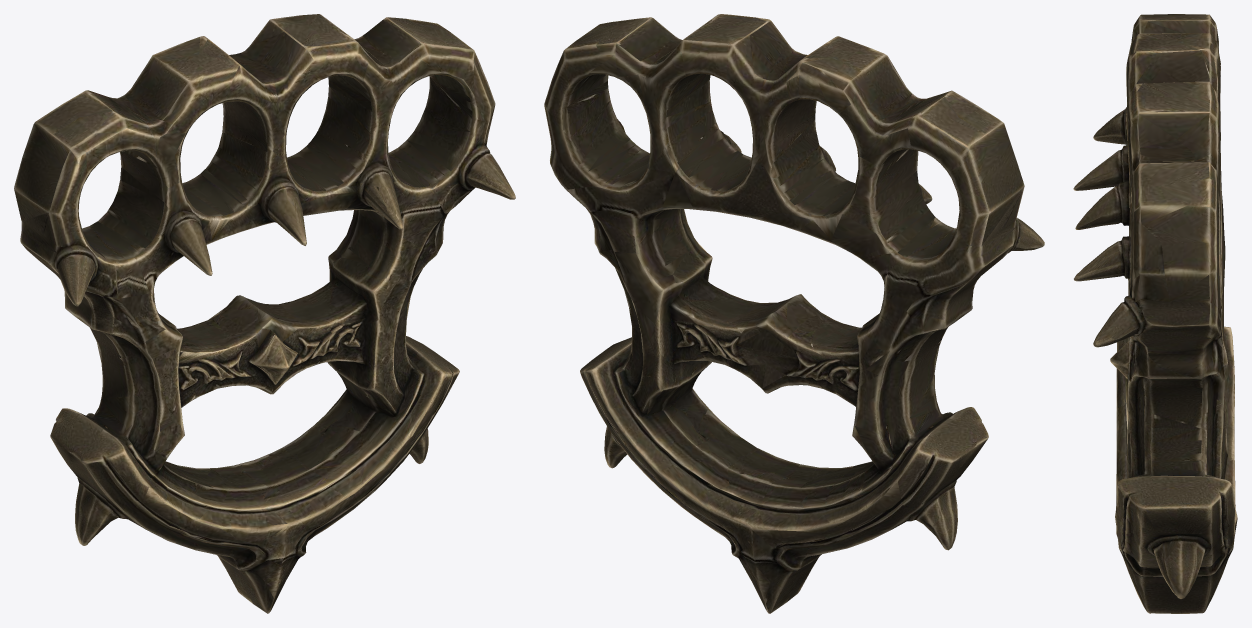
The model's file is fist_3.glb.
3 renders of one model, left to right at view 1: azimuth 30°, elevation 25°; view 2: azimuth 150°, elevation 25°; view 3: azimuth 270°, elevation 25°, orthographic. The views are drawn at different scales.
Parts seen in each view (by area): view 1: fist_3; view 2: fist_3; view 3: fist_3.
Part boxes in pixels (left/top/right/bottom): fist_3: left=14, top=14, right=515, bottom=613; fist_3: left=544, top=14, right=1044, bottom=613; fist_3: left=1073, top=14, right=1237, bottom=613.
Bounding box in the file's own units: 0.182 × 0.22 × 0.0598.
1 material, 1 textured.
